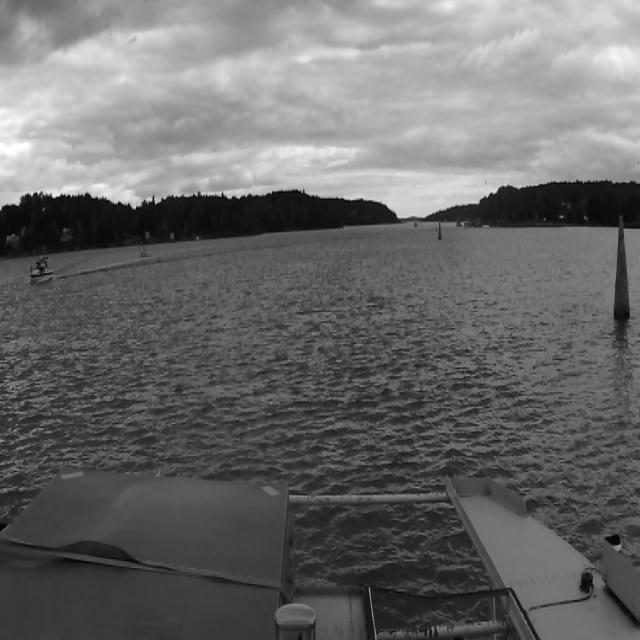buoy: (613, 213, 631, 321), (438, 220, 442, 240)
ship: (29, 255, 54, 284), (412, 218, 418, 228)
